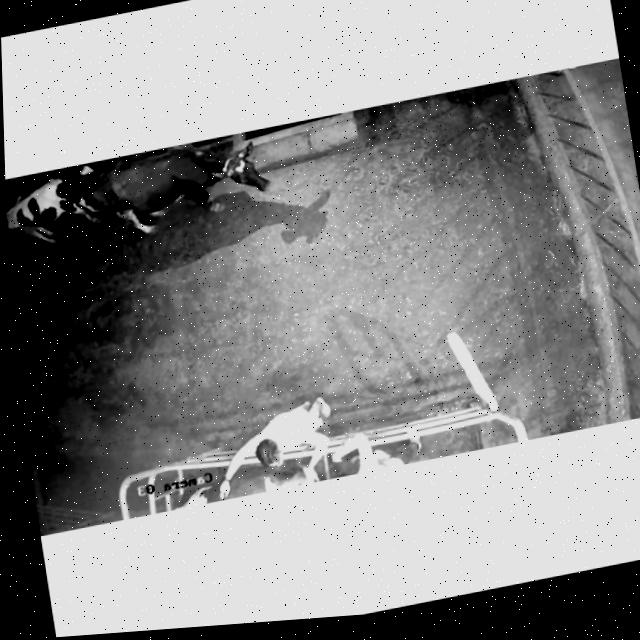stand: (89, 123, 292, 255), (5, 159, 107, 257)
